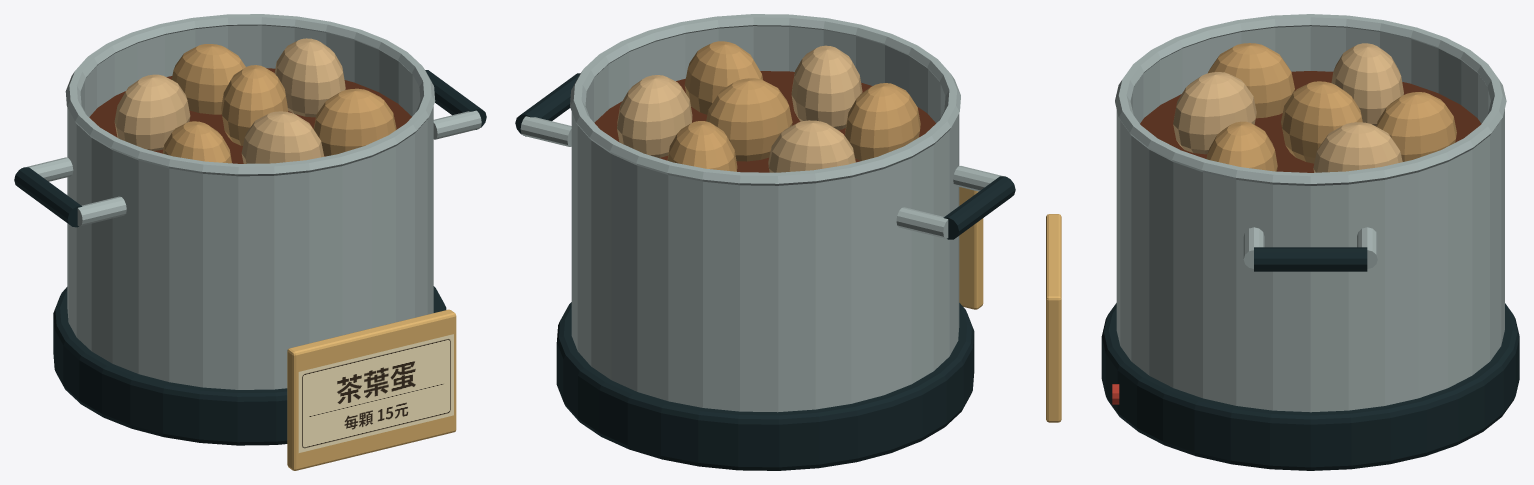
File: 05_TeaEggPot.glb
3 renders of one model, left to right at view 1: azimuth 30°, elevation 25°; view 2: azimuth 150°, elevation 25°; view 3: azimuth 270°, elevation 25°, orthographic. The views are drawn at different scales.
Visible parts, largest first — view 1: 05_TeaEggPot; view 2: 05_TeaEggPot; view 3: 05_TeaEggPot.
Boxes of the visible parts, x1,y1,x2,y2 form: 05_TeaEggPot: (14, 14, 486, 470); 05_TeaEggPot: (515, 14, 1015, 470); 05_TeaEggPot: (1046, 14, 1519, 470).
Size of the model in its own units: 0.588 by 0.388 by 0.546.
8 materials, 1 textured.
